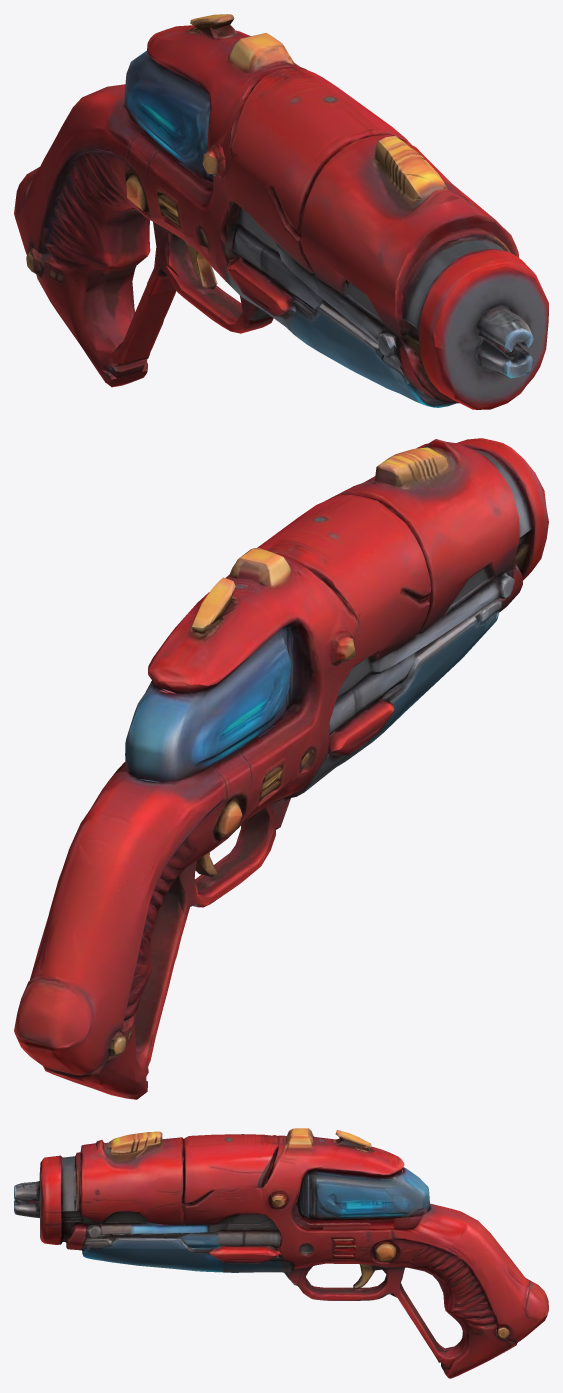
File: plasma_defender.medium.glb
The picture shows the model from 3 angles, top to bottom: view 1: azimuth 30°, elevation 25°; view 2: azimuth 150°, elevation 25°; view 3: azimuth 270°, elevation 25°; orthographic projection. The views are drawn at different scales.
Visible parts, largest first — view 1: model; view 2: model; view 3: model.
Boxes of the visible parts, box(x1,y1,x2,y2) form: model: box(14, 14, 548, 409); model: box(14, 438, 548, 1099); model: box(14, 1128, 548, 1378).
Bounding box in the file's own units: 0.0503 × 0.1414 × 0.28.
1 material, 1 textured.
